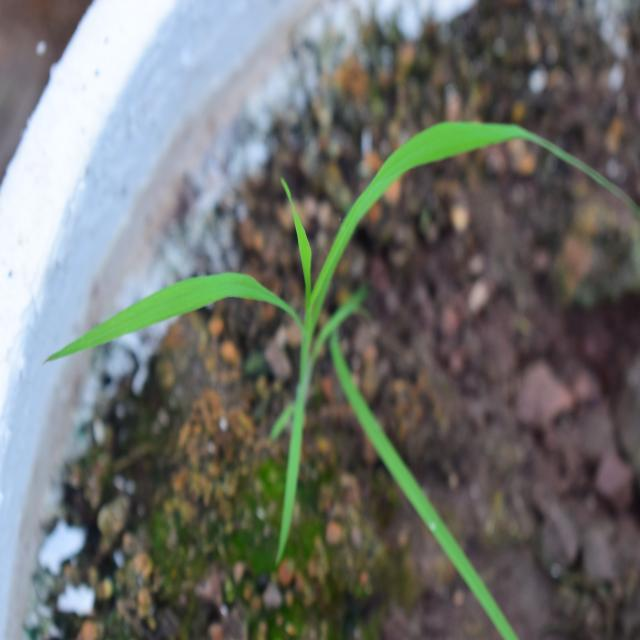barnyard_grass: (28, 95, 570, 519)
